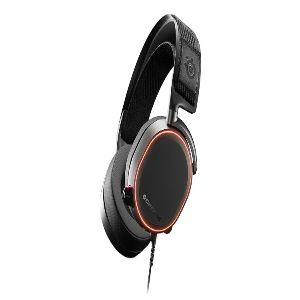headset: (97, 8, 209, 274)
